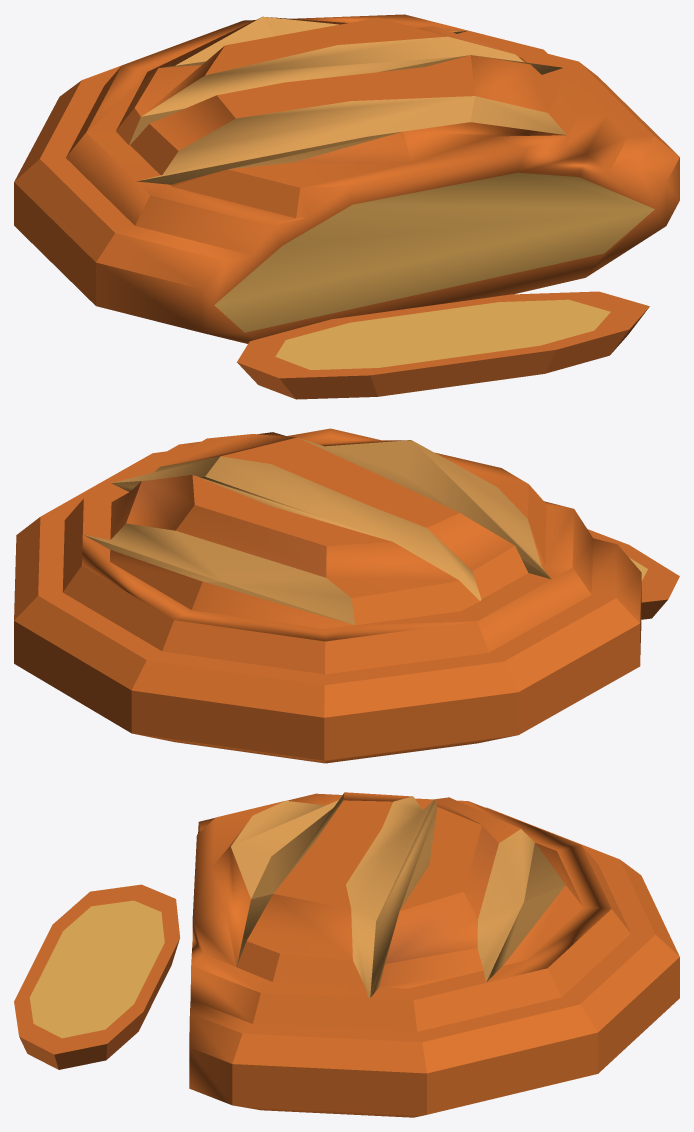
The model's file is sliced _bread_LOW.fbx.
3 views of the same model, one above another, from view 1: azimuth 30°, elevation 25°; view 2: azimuth 150°, elevation 25°; view 3: azimuth 270°, elevation 25° (orthographic). The views are drawn at different scales.
Parts seen in each view (by area): view 1: Circle.003; view 2: Circle.003; view 3: Circle.003.
Boxes of the visible parts, <box> form: Circle.003: <box>14,14,679,399</box>; Circle.003: <box>14,428,679,763</box>; Circle.003: <box>14,792,679,1117</box>.
Bounding box in the file's own units: 41.79 × 12.01 × 44.72.
